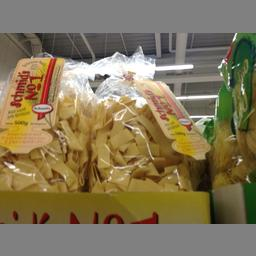pasta: (90, 73, 204, 190), (0, 52, 90, 190)
